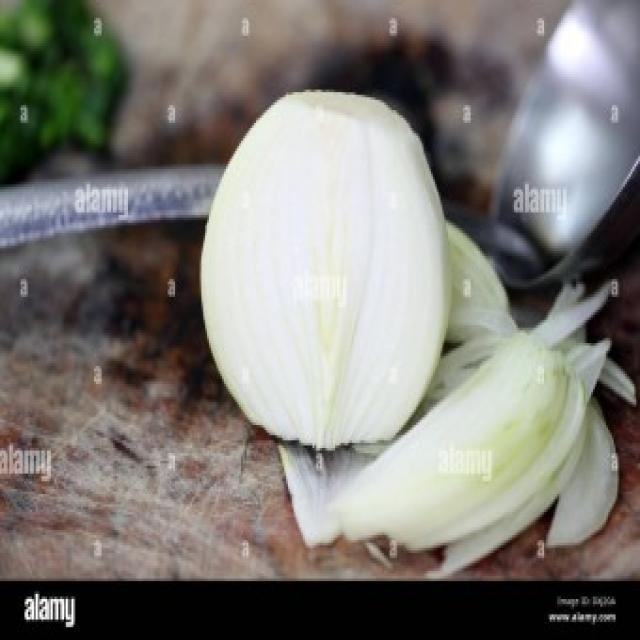Onion: (200, 86, 449, 446)
